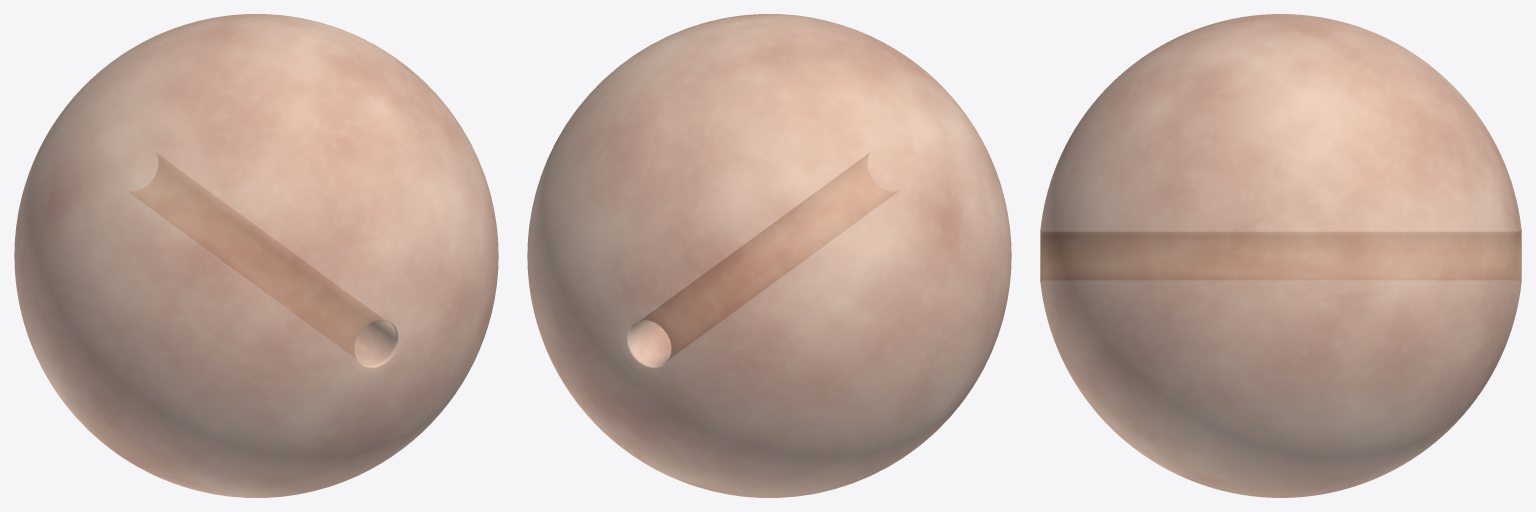
Rendered from morganite-10mm.glb.
3 views of the same model, side by side, from view 1: azimuth 30°, elevation 25°; view 2: azimuth 150°, elevation 25°; view 3: azimuth 270°, elevation 25° (orthographic).
Visible parts, largest first — view 1: morganite.001; view 2: morganite.001; view 3: morganite.001.
Part boxes in pixels (x1=…): morganite.001: x1=14, y1=14, x2=498, y2=497; morganite.001: x1=527, y1=14, x2=1011, y2=497; morganite.001: x1=1040, y1=14, x2=1521, y2=497.
Bounding box in the file's own units: 0.01 × 0.01 × 0.00994.
Materials: 2 (1 with a texture image).
